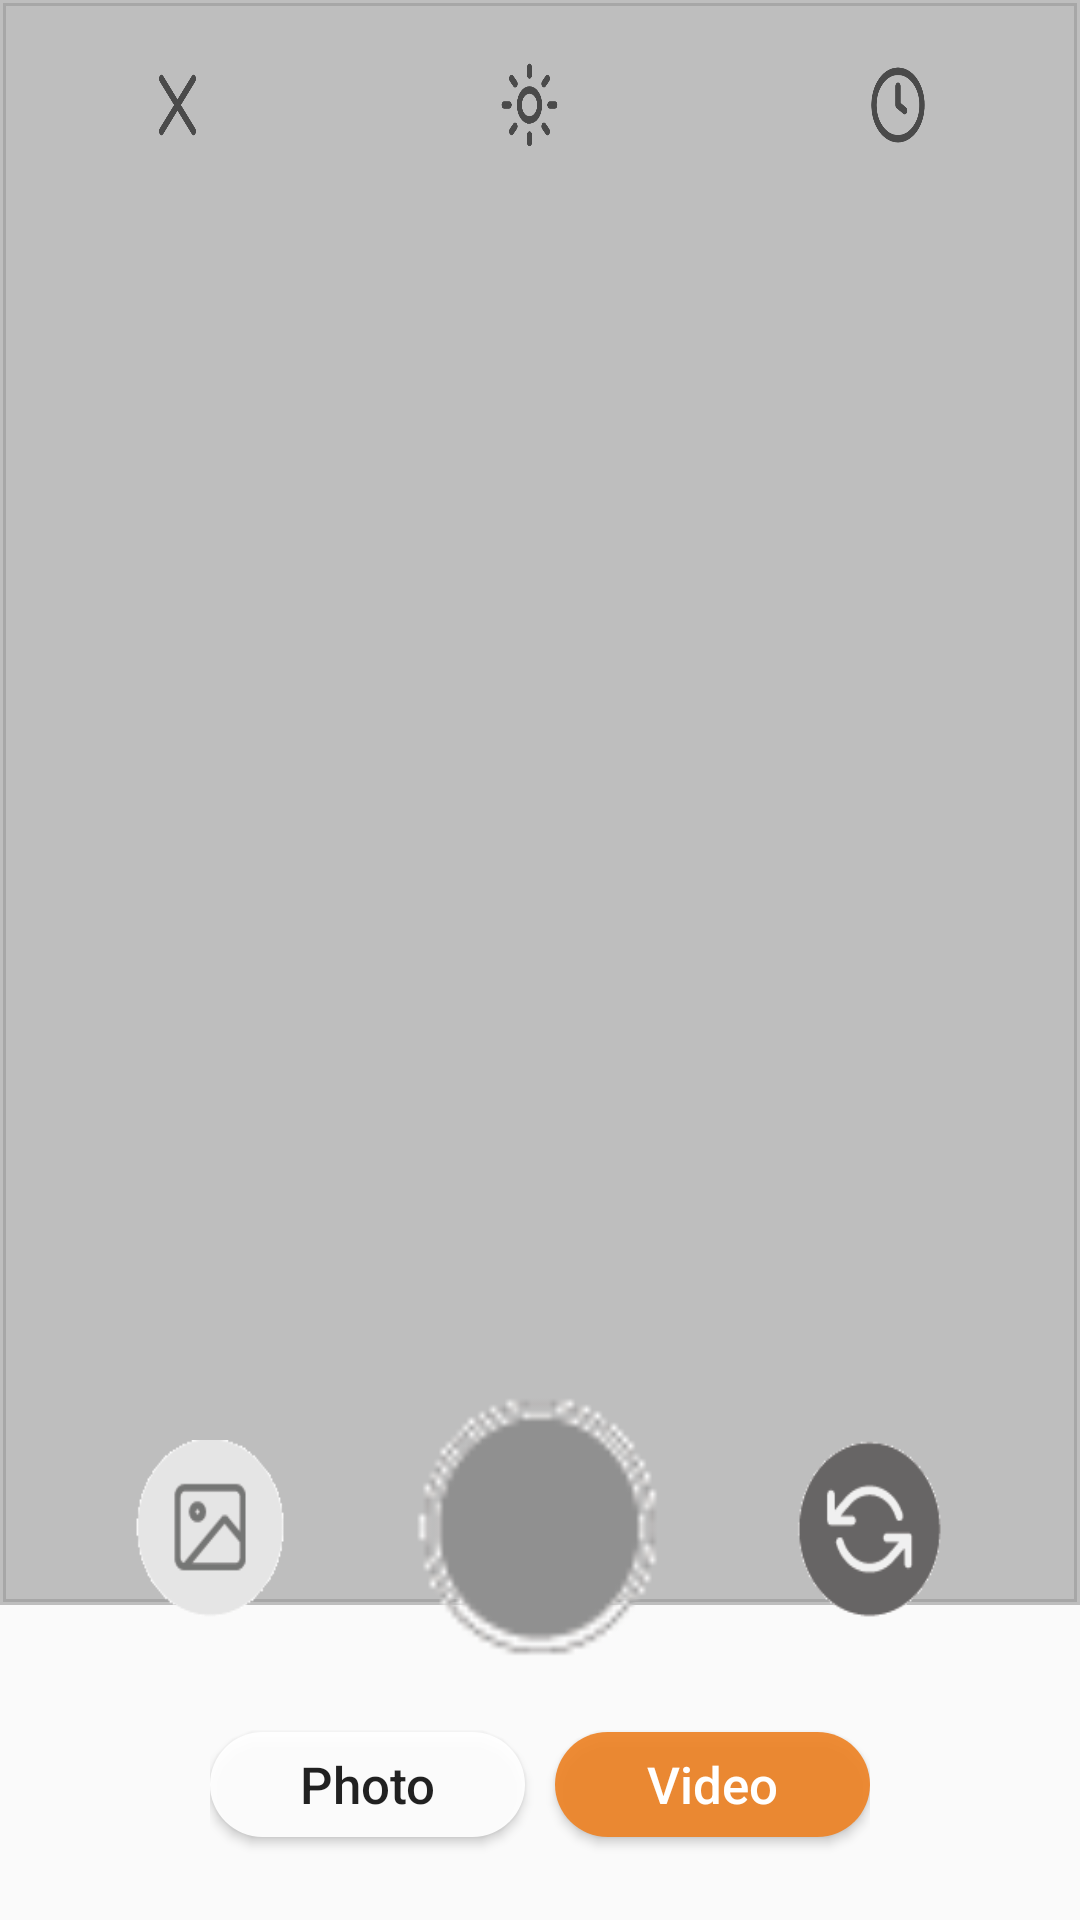

Icons on this 1080w x 1920h Android screen, each with the point to tap as [x,y]:
brightness: [529,104]
clock: [898,105]
cross: [177,105]
gallery: [210,1530]
reverse cam: [870,1531]
